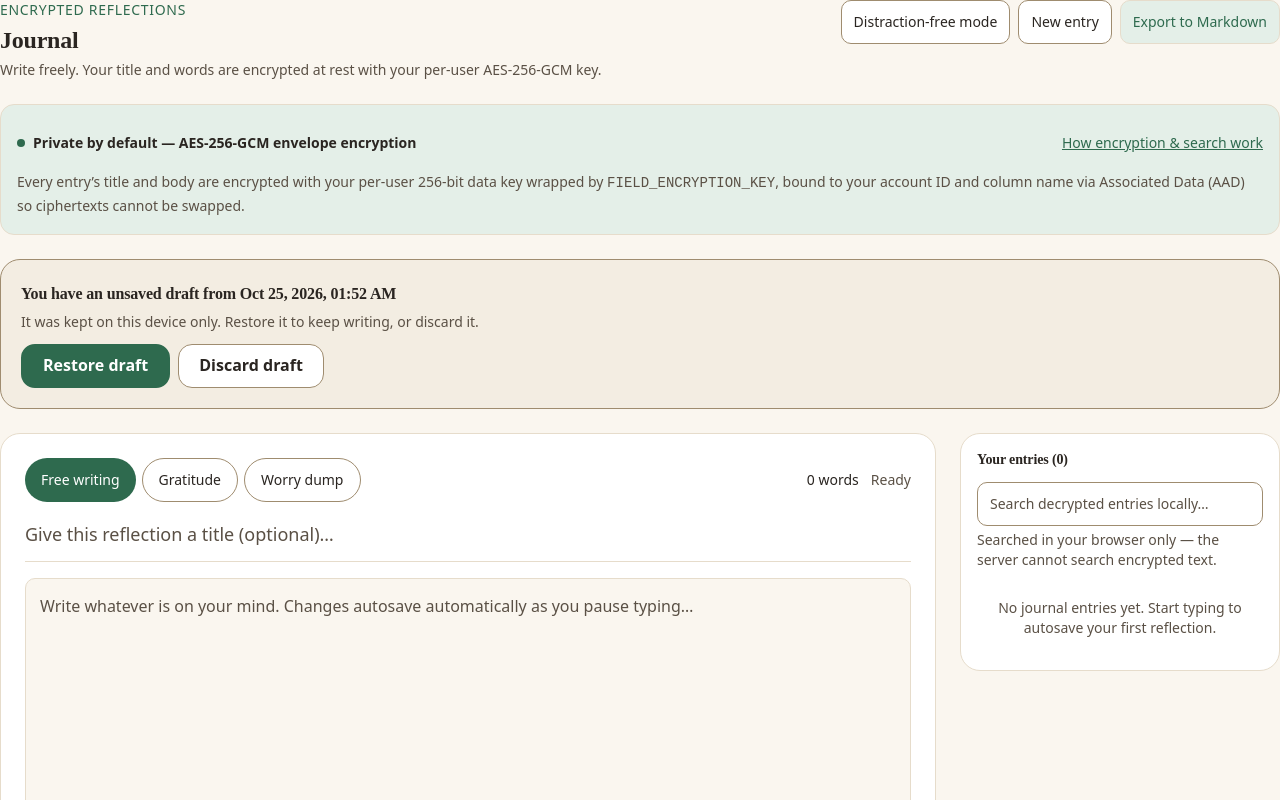
journal drafts offline › restores a draft into the editor, which then saves it
Click the button "Restore draft" at (96, 366), box [21,344,170,388]
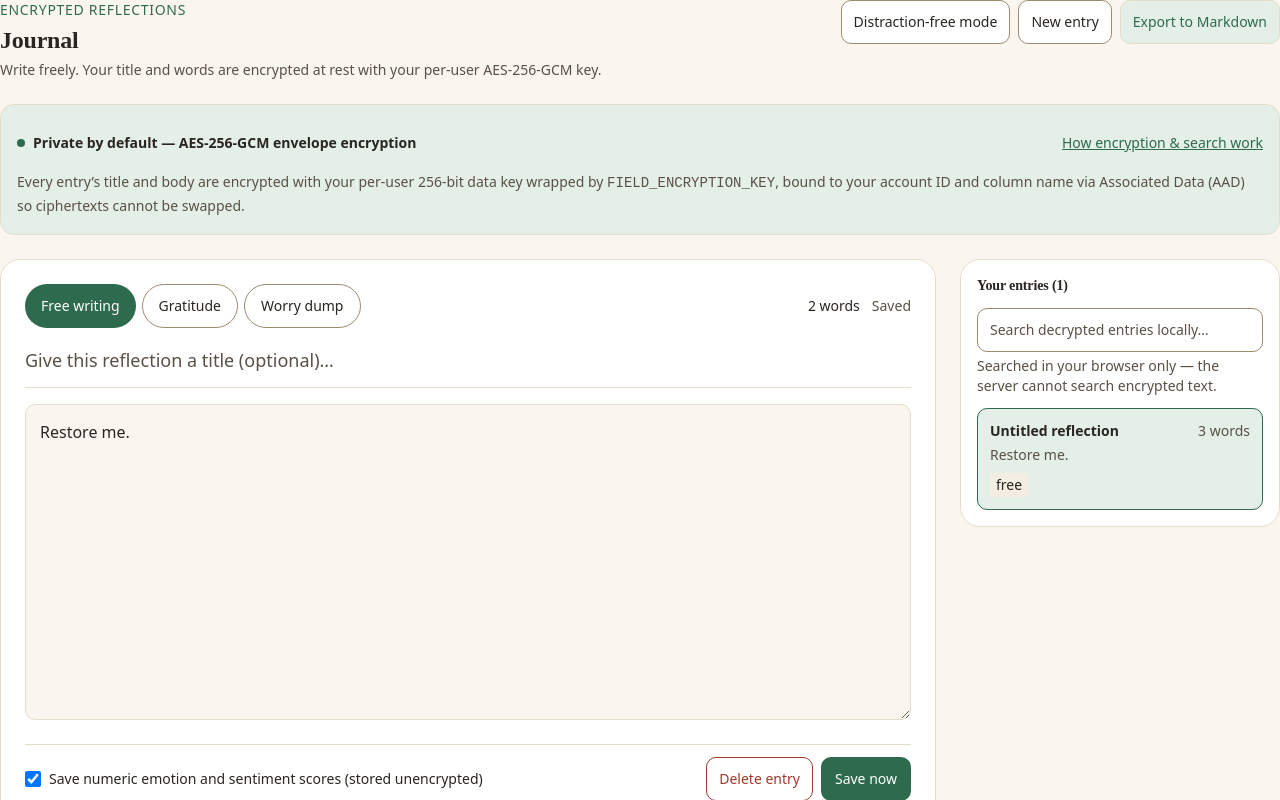
Result: the text box with test id "journal-body-input" holds "Restore me." at [25,404,911,720]
